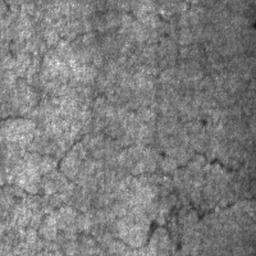Crazing: (0, 0, 256, 256), (143, 11, 256, 128), (66, 48, 120, 80), (217, 2, 235, 17), (247, 19, 256, 30)
